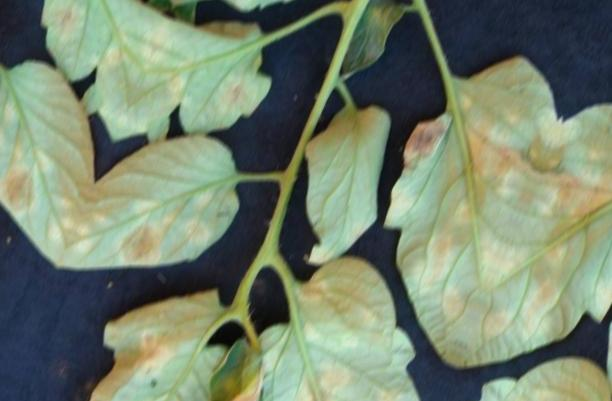Tomato mold leaf: (306, 1, 590, 401), (185, 217, 482, 401), (53, 94, 266, 334), (108, 0, 303, 206), (271, 74, 433, 276), (60, 255, 254, 401), (174, 0, 378, 63)
